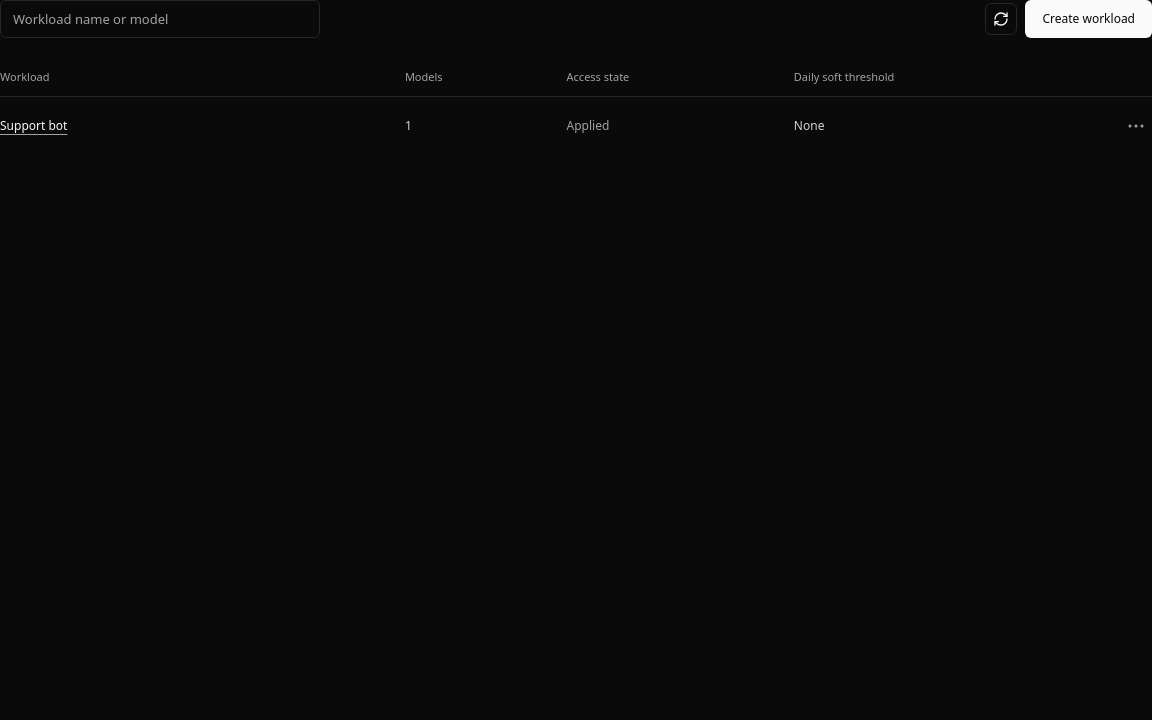
Test: Workload model access › creates reusable=true with bounded defaults and discards the one-time secret
Step 1. Click the button with aria-label "Open Support bot" → (34, 126), box [0, 116, 67, 135]
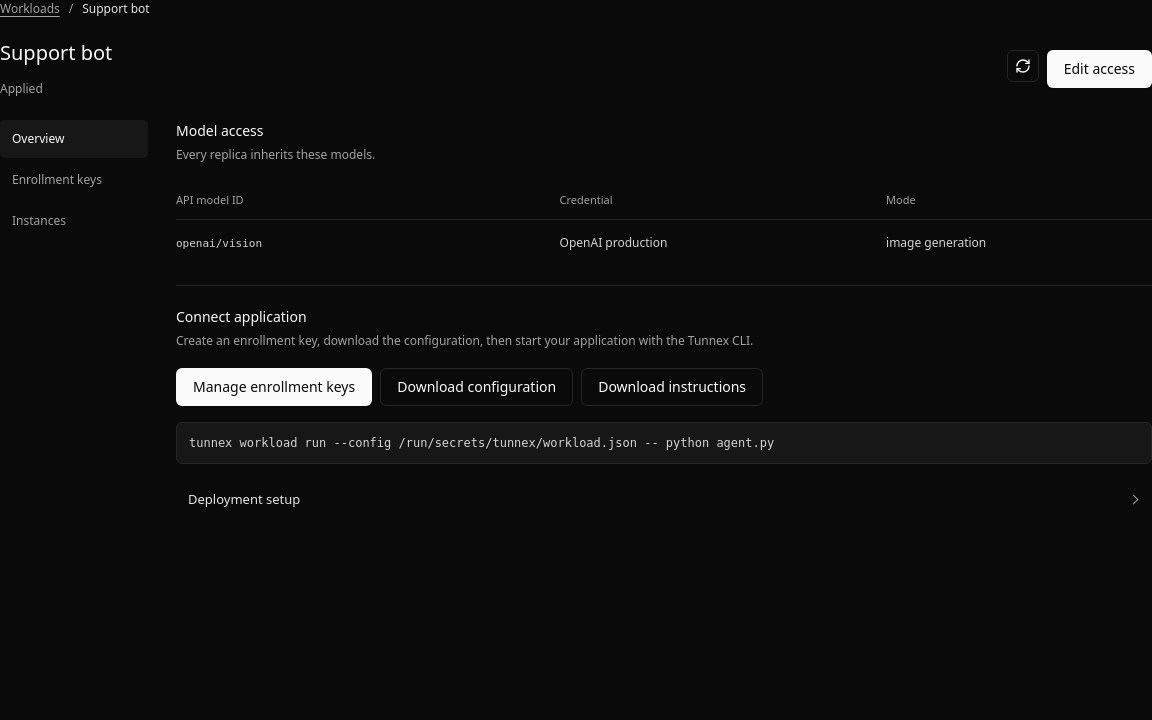
Expected: the button named "Refresh workload" is enabled, [1007, 50, 1039, 82]
Step 2. Click the tab "Enrollment keys" → (74, 180), box [0, 161, 148, 199]
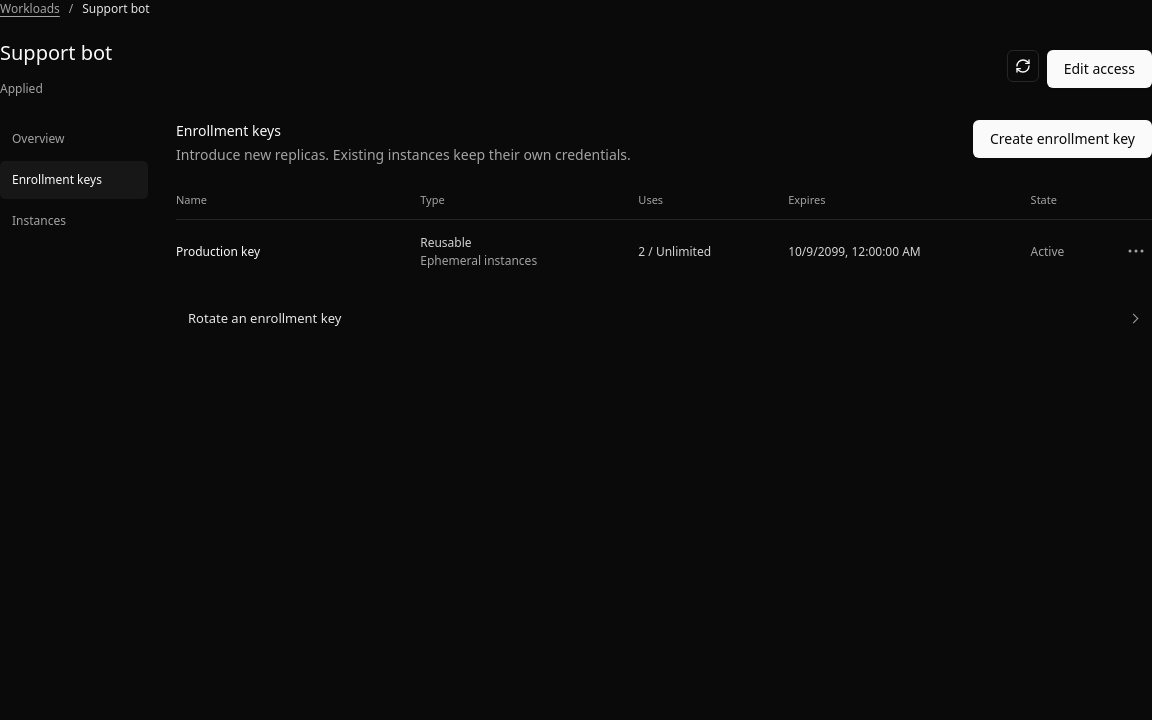
Expected: the text "Production key" is shown, [176, 243, 260, 260]
Step 3. Click the button "Create enrollment key" → (1062, 139), box [973, 120, 1151, 158]
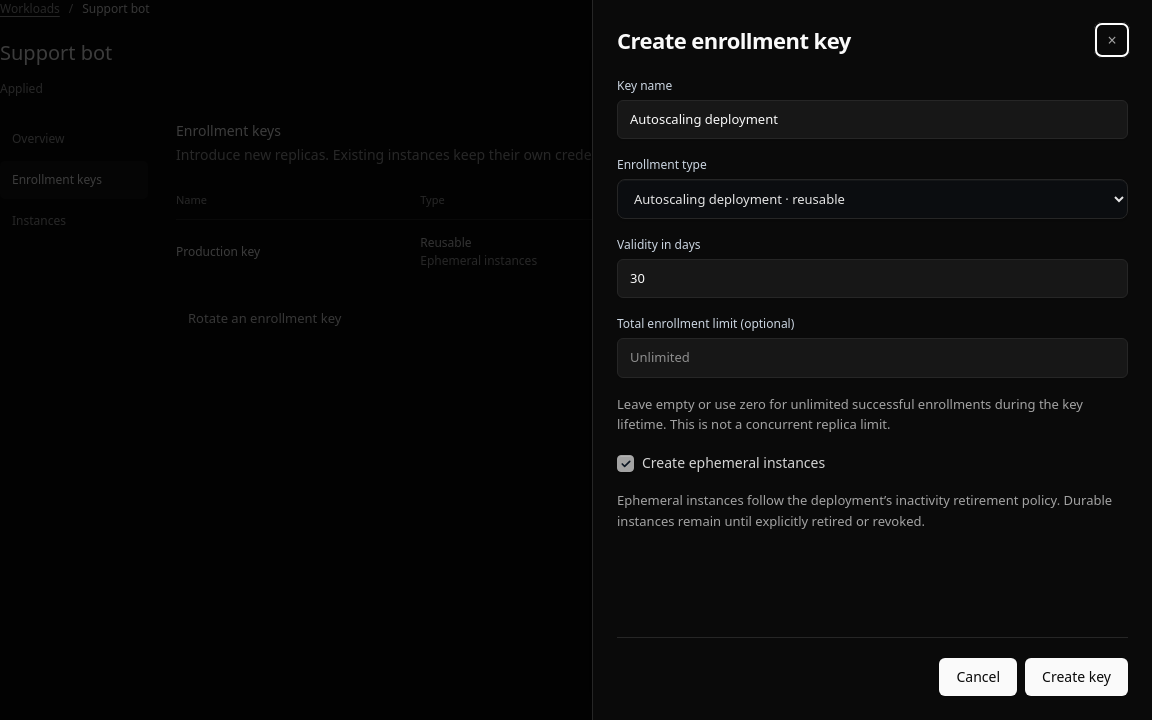
Step 4. Click the button "Create key" → (1077, 677), box [1025, 658, 1128, 696]
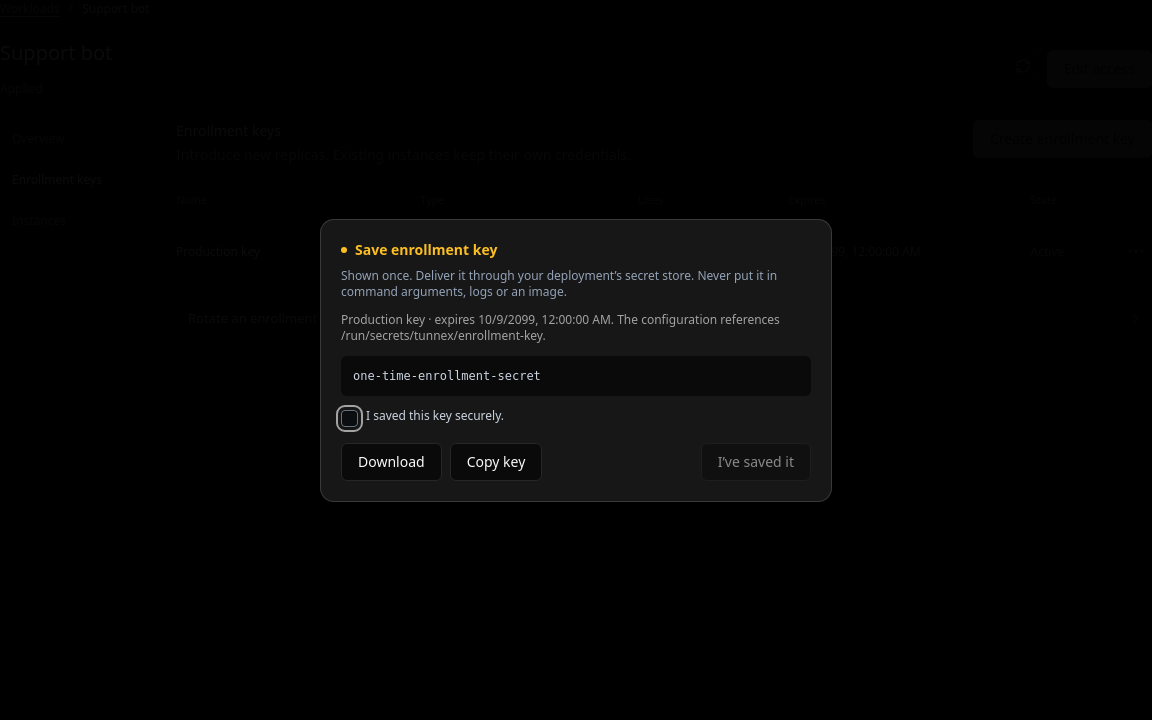
Expected: the text "one-time-enrollment-secret" is shown, [341, 356, 811, 396]
Step 5. Click the checkbox labelled "I saved this key securely." → (350, 418), box [341, 410, 358, 426]
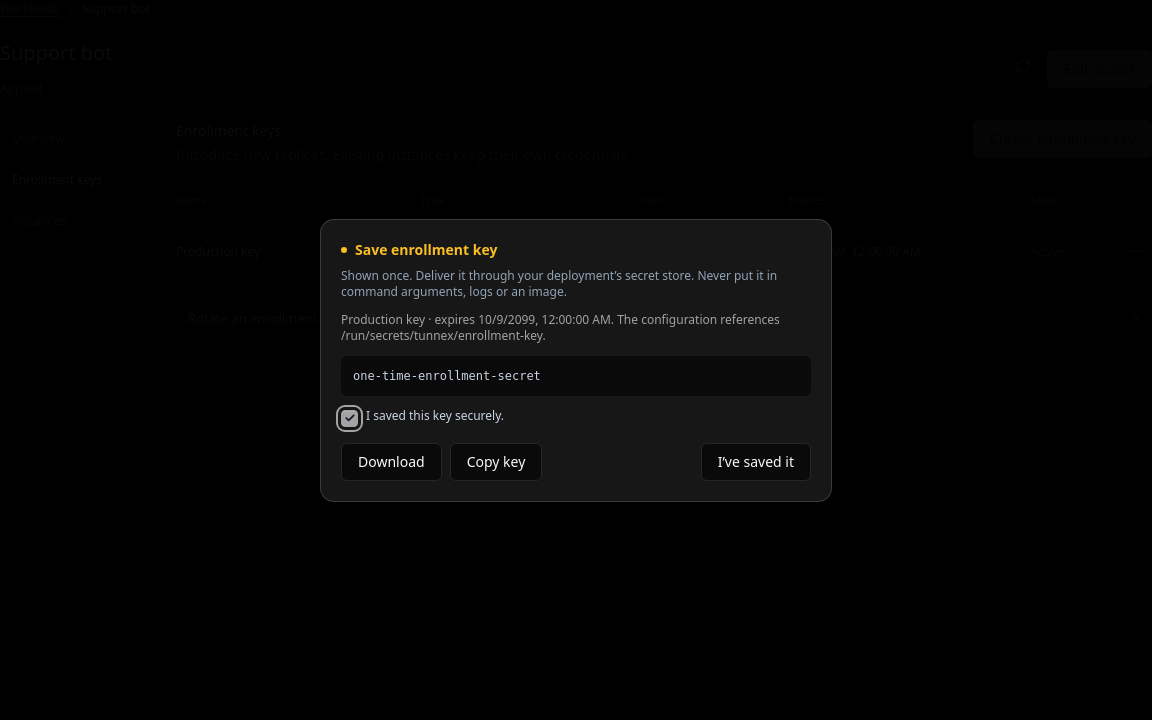
Step 6. Click the button "I’ve saved it" → (756, 462), box [701, 442, 811, 480]
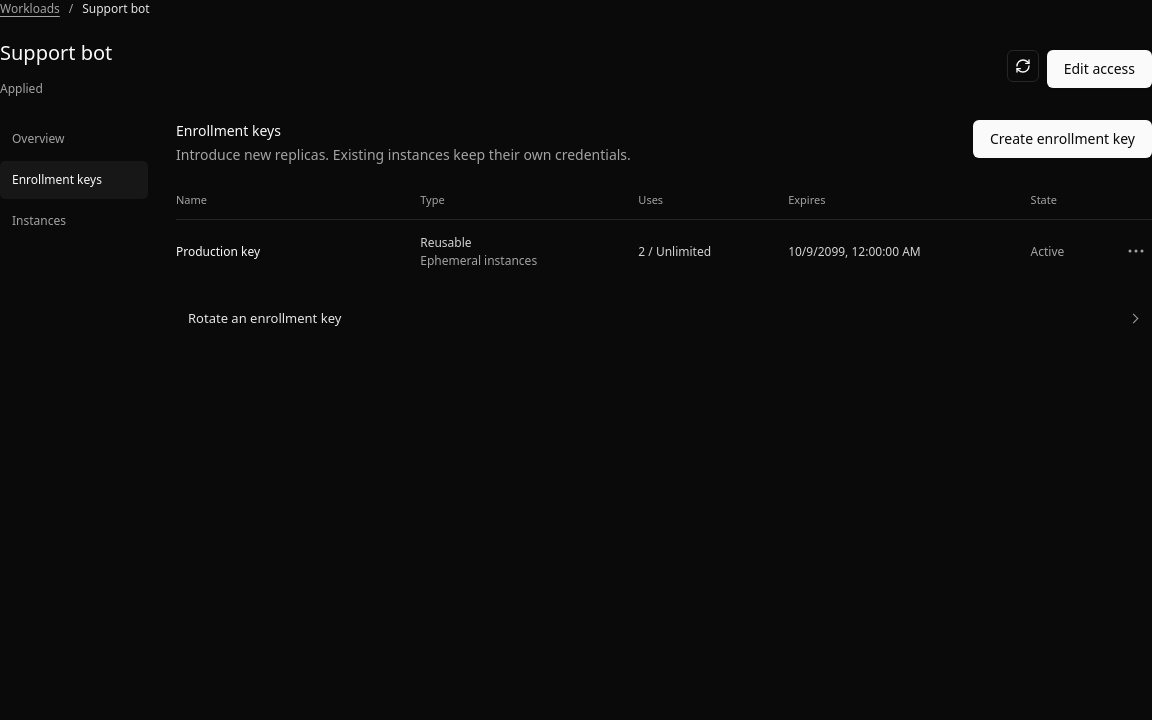
Expected: the text "one-time-enrollment-secret" is gone
